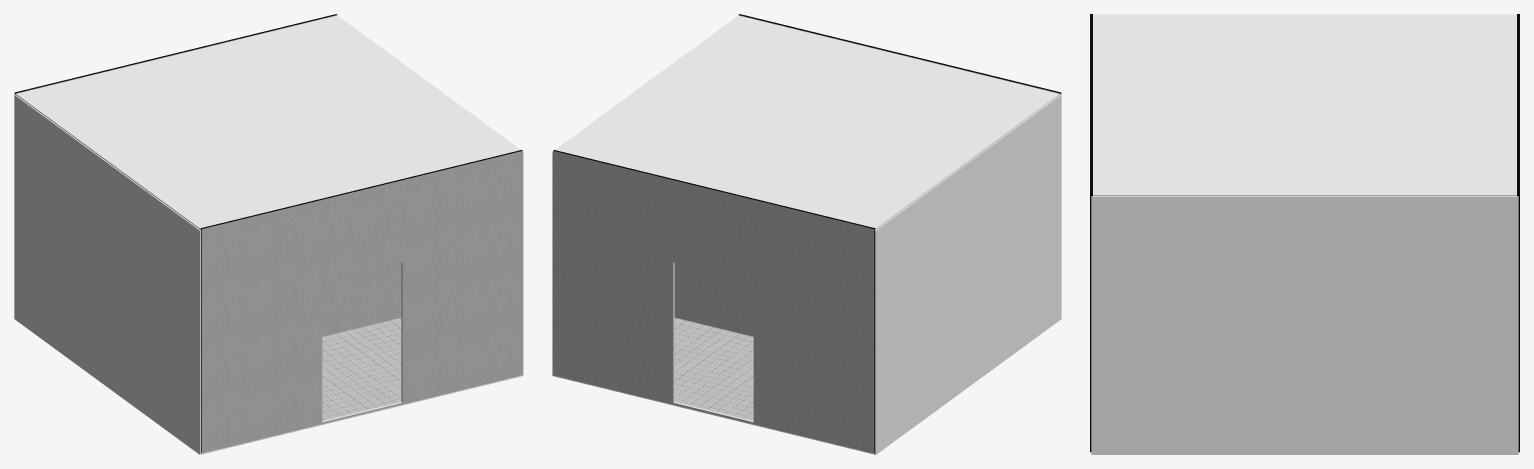
File: CheckPoint01.fbx
3 renders of one model, left to right at view 1: azimuth 30°, elevation 25°; view 2: azimuth 150°, elevation 25°; view 3: azimuth 270°, elevation 25°, orthographic. The views are drawn at different scales.
Parts seen in each view (by area): view 1: node_id31 (×2), node_id13, node_id4, node_id22 (×2), node_id25, node_id28; view 2: node_id28 (×2), node_id13, node_id4, node_id22 (×2), node_id25, node_id31; view 3: node_id7, node_id13, node_id28, node_id31.
Boxes of the visible parts, bbox=[...] form: node_id31 (×2): bbox=[200, 150, 522, 453]; node_id13: bbox=[15, 15, 520, 229]; node_id4: bbox=[14, 94, 201, 454]; node_id22 (×2): bbox=[201, 317, 521, 454]; node_id25: bbox=[322, 263, 401, 336]; node_id28: bbox=[14, 14, 336, 94]; node_id28 (×2): bbox=[553, 150, 875, 453]; node_id13: bbox=[555, 15, 1060, 229]; node_id4: bbox=[874, 94, 1061, 454]; node_id22 (×2): bbox=[553, 317, 874, 454]; node_id25: bbox=[674, 263, 753, 336]; node_id31: bbox=[739, 14, 1061, 94]; node_id7: bbox=[1091, 196, 1518, 454]; node_id13: bbox=[1093, 14, 1516, 196]; node_id28: bbox=[1517, 14, 1519, 452]; node_id31: bbox=[1090, 14, 1092, 452].
Size of what is drawn, in the model's own units: 0.512 by 0.3415 by 0.5119.
20 materials, 10 textured.
